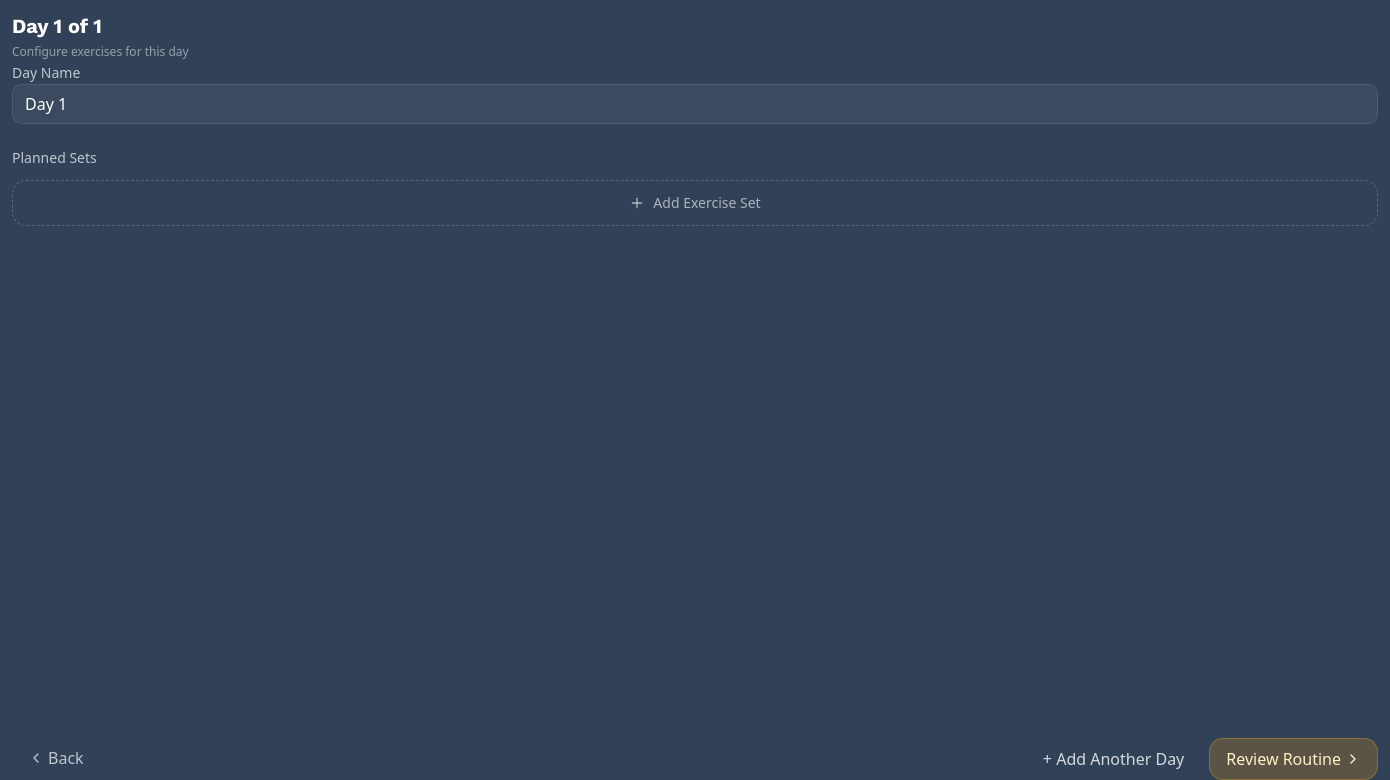
Test: DayPlanStep › allows adding a planned set
Click the button "Add Exercise Set": (695, 203) x1=12 y1=180 x2=1378 y2=226
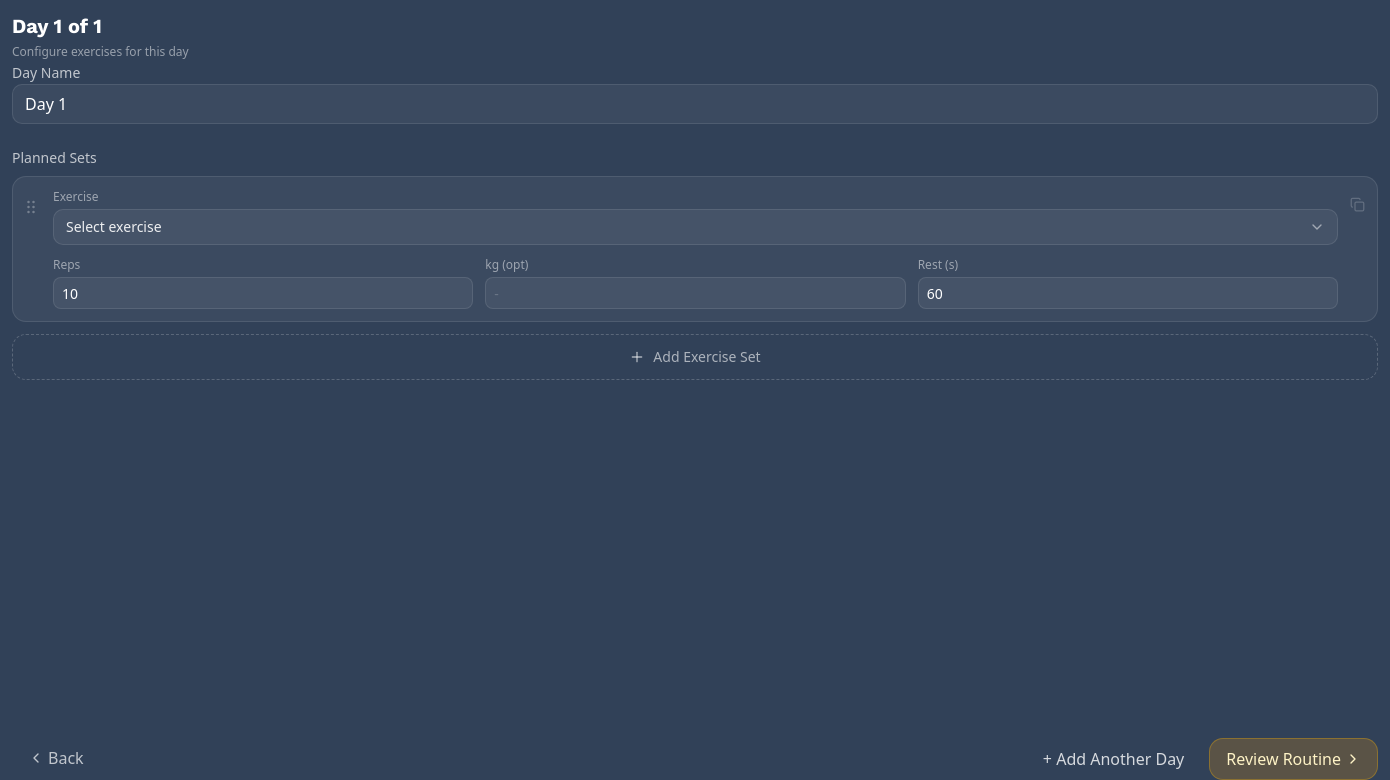
Result: the text "Reps" is shown at x1=53 y1=256 x2=80 y2=273
Result: the text "Rest (s)" is shown at x1=918 y1=256 x2=958 y2=273
